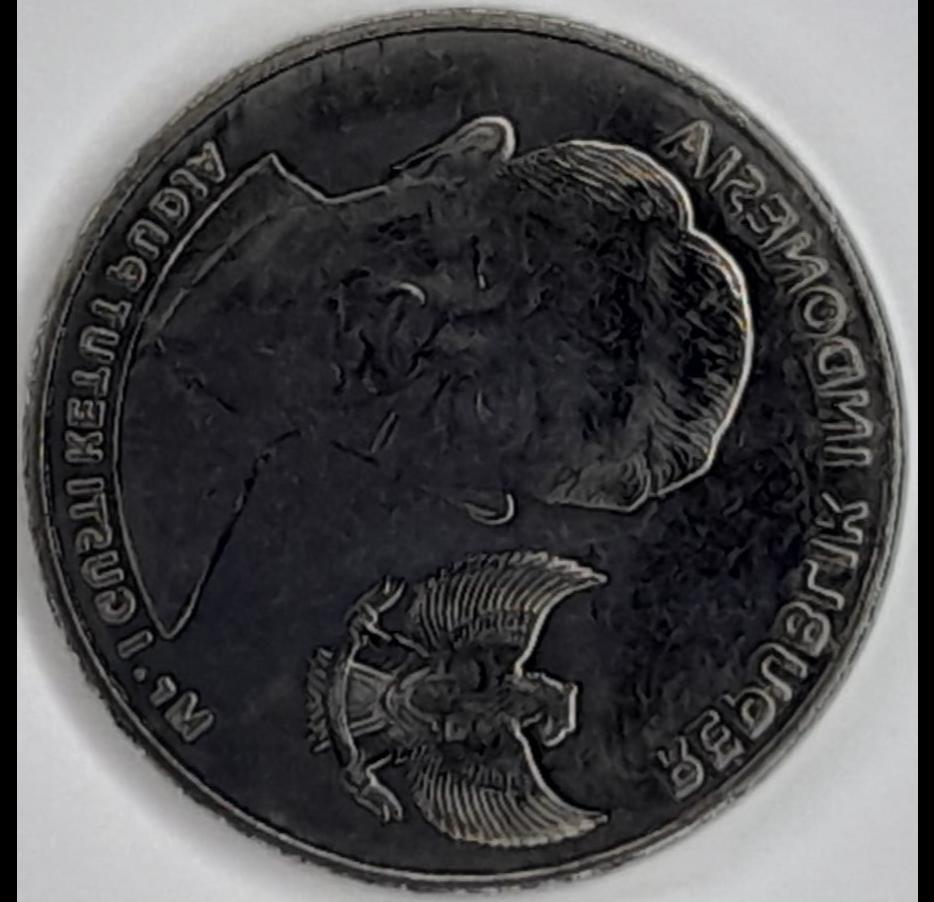coin_1000_e2016: (16, 18, 922, 902)
